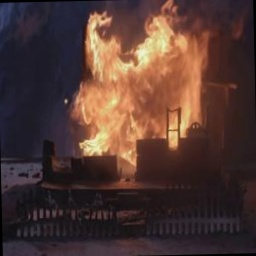fire: (57, 0, 212, 168)
